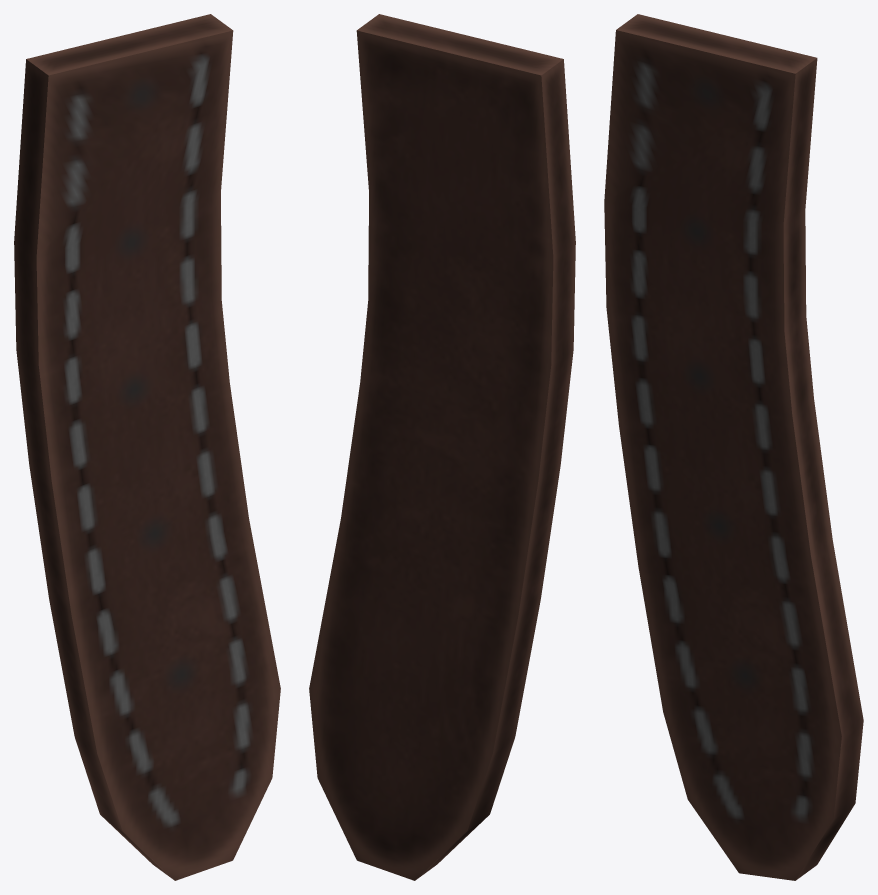
The model's file is StrapEnd_SwingRight.fbx.
The picture shows the model from 3 angles, left to right: view 1: azimuth 30°, elevation 25°; view 2: azimuth 150°, elevation 25°; view 3: azimuth 330°, elevation 25°; orthographic projection. The views are drawn at different scales.
Parts seen in each view (by area): view 1: StrapEnd_SwingRight_LOD0; view 2: StrapEnd_SwingRight_LOD0; view 3: StrapEnd_SwingRight_LOD0.
Part boxes in pixels (x1,y1,x2,y2): StrapEnd_SwingRight_LOD0: [14, 14, 280, 880]; StrapEnd_SwingRight_LOD0: [309, 14, 575, 880]; StrapEnd_SwingRight_LOD0: [604, 14, 863, 880].
Size of what is drawn, in the model's own units: 18.52 by 60.6 by 2.95.
